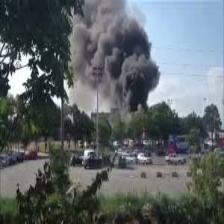smoke: (60, 1, 162, 110)
